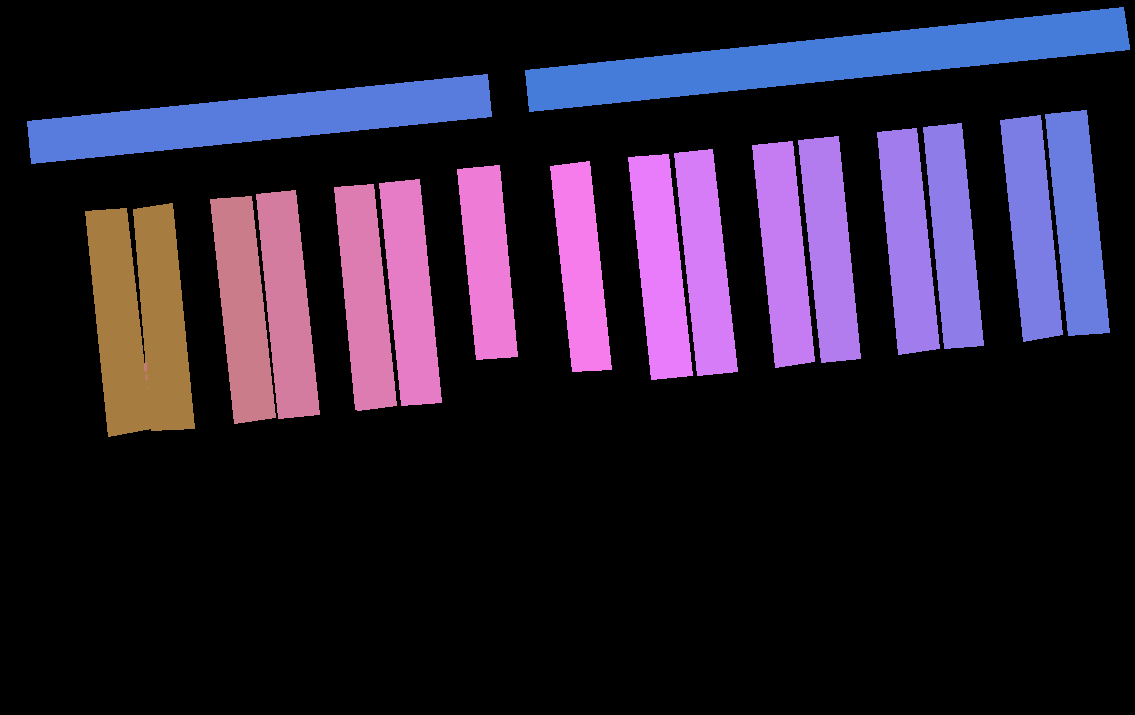parkingspot: (525, 7, 1129, 111), (27, 74, 491, 163), (85, 208, 151, 436), (210, 196, 275, 423), (628, 154, 692, 379), (1045, 110, 1109, 335), (256, 190, 319, 418), (674, 149, 737, 375), (334, 184, 396, 410), (379, 179, 441, 405), (752, 141, 814, 367), (798, 136, 860, 362), (877, 128, 939, 354), (1000, 115, 1062, 341), (133, 203, 194, 430), (923, 123, 983, 348), (550, 161, 611, 371), (457, 165, 517, 359)
